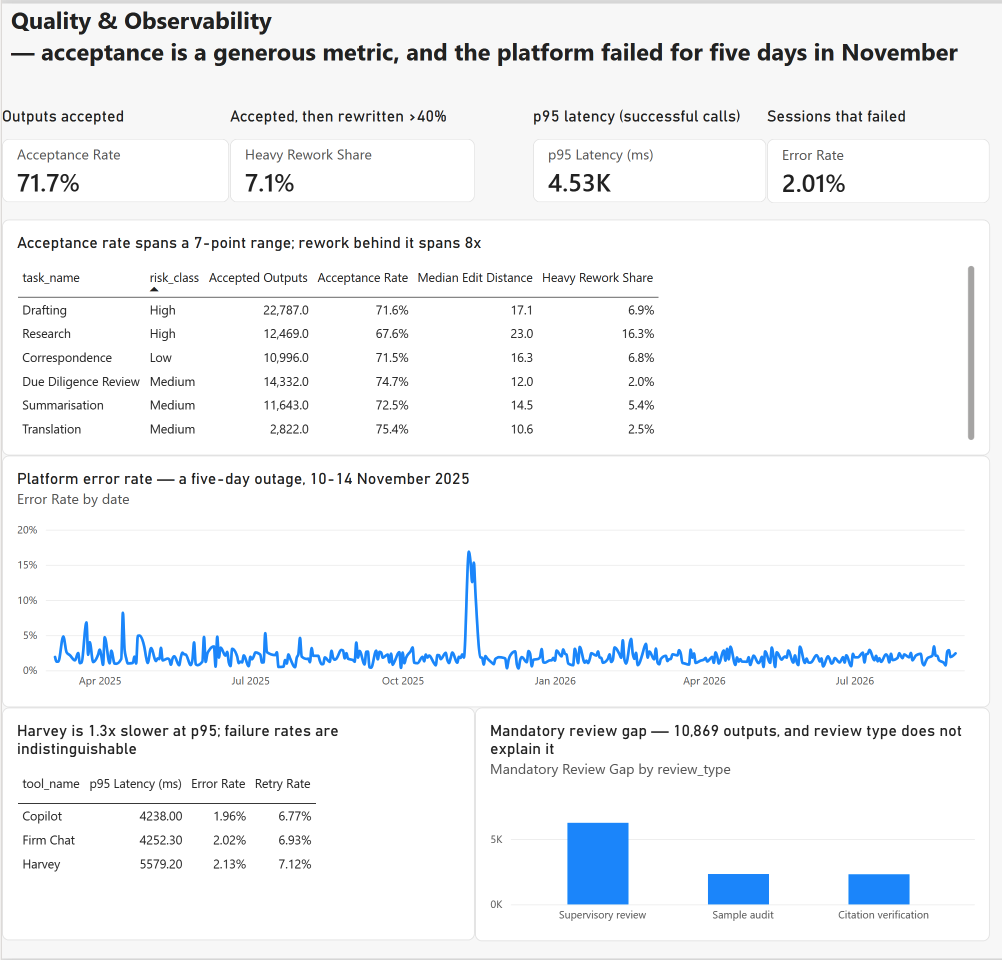

What the dashboard file says about the page in this screenshot:
{"tool":"powerbi","page":{"name":"4 Quality & Observability","canvas":[1920,1080],"ordinal":3},"visuals":[{"type":"textbox","box":[10.2,0,1076,279.5],"z":0},{"type":"cardVisual","title":"Outputs accepted","fields":{"Data":["_Measures.Acceptance Rate"]},"box":[0,116.5,258,108.6],"z":1},{"type":"cardVisual","title":"Accepted, then rewritten >40%","fields":{"Data":["_Measures.Heavy Rework Share"]},"box":[258,116.5,277.2,108.6],"z":2},{"type":"cardVisual","title":"p95 latency (successful calls)","fields":{"Data":["_Measures.p95 Latency (ms)"]},"box":[600.8,116.5,264.7,108.6],"z":3},{"type":"cardVisual","title":"Sessions that failed","fields":{"Data":["_Measures.Error Rate"]},"box":[865.5,116.5,252.3,109.7],"z":4},{"type":"tableEx","title":"Acceptance rate spans a 7-point range; rework behind it spans 8x","fields":{"Values":["dim_task_type.task_name","dim_task_type.risk_class","_Measures.Accepted Outputs","_Measures.Acceptance Rate","_Measures.Median Edit Distance","_Measures.Heavy Rework Share"]},"box":[0,244.4,1117.8,267],"z":5},{"type":"lineChart","title":"Platform error rate — a five-day outage, 10-14 November 2025","fields":{"Category":["dim_date.date"],"Y":["_Measures.Error Rate"]},"box":[0,511.4,1117.8,285.1],"z":6},{"type":"tableEx","title":"Harvey is 1.3x slower at p95; failure rates are indistinguishable","fields":{"Values":["dim_tool.tool_name","_Measures.p95 Latency (ms)","_Measures.Error Rate","_Measures.Retry Rate"]},"box":[0,796.5,535.2,263.6],"z":7},{"type":"clusteredColumnChart","title":"Mandatory review gap — 10,869 outputs, and review type does not explain it","fields":{"Category":["fact_ai_output.review_type"],"Y":["_Measures.Mandatory Review Gap"]},"box":[535.2,796.5,582.7,264.7],"z":8}]}

Visuals, with their boxes on the page's 1920x1080 design canvas (x1, y1, x2, y2). These are canvas units, not pixel positions in the 1002x960 screenshot, which may show the page scaled, cropped or inside an application window:
textbox: BBox(10, 0, 1086, 280)
"Outputs accepted" cardVisual: BBox(0, 116, 258, 225)
"Accepted, then rewritten >40%" cardVisual: BBox(258, 116, 535, 225)
"p95 latency (successful calls)" cardVisual: BBox(601, 116, 866, 225)
"Sessions that failed" cardVisual: BBox(866, 116, 1118, 226)
"Acceptance rate spans a 7-point range; rework behind it spans 8x" tableEx: BBox(0, 244, 1118, 511)
"Platform error rate — a five-day outage, 10-14 November 2025" lineChart: BBox(0, 511, 1118, 796)
"Harvey is 1.3x slower at p95; failure rates are indistinguishable" tableEx: BBox(0, 796, 535, 1060)
"Mandatory review gap — 10,869 outputs, and review type does not explain it" clusteredColumnChart: BBox(535, 796, 1118, 1061)
